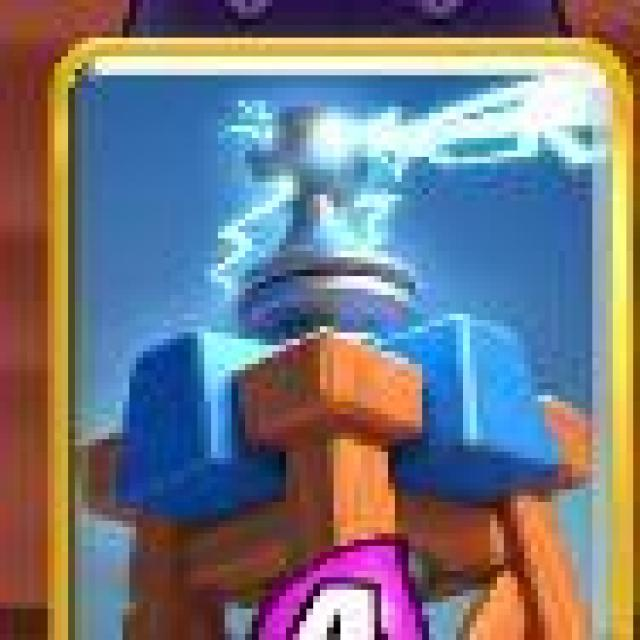Tesla: (50, 36, 640, 640)
